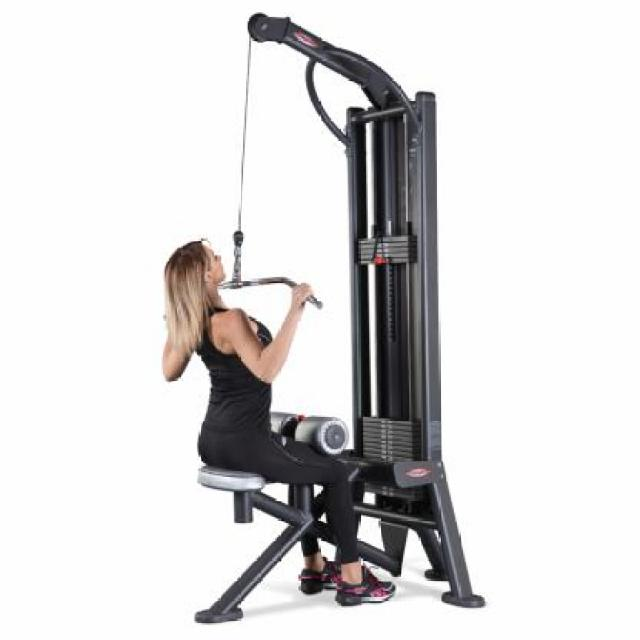Lat Pull Down: (126, 6, 511, 626)
